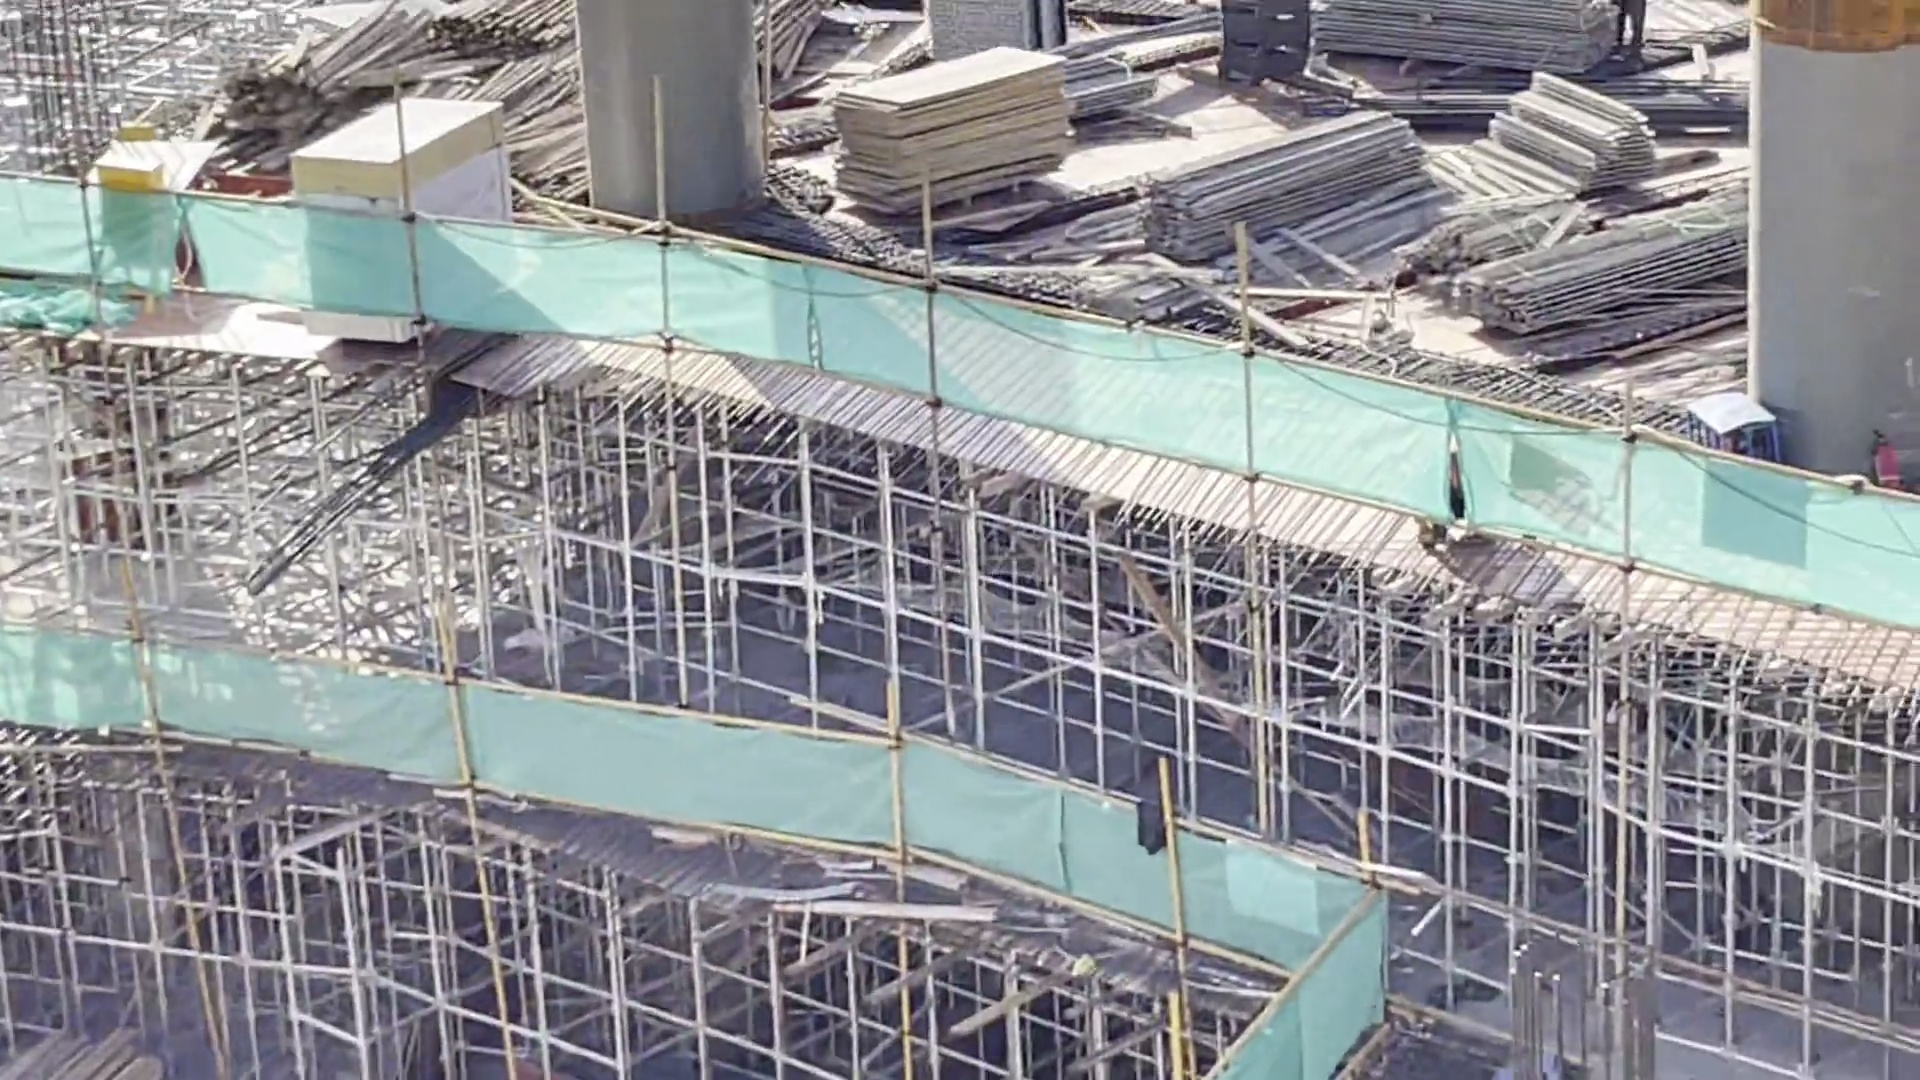board: (812, 51, 1097, 208)
ebox: (282, 84, 517, 343), (80, 116, 181, 258)
wood: (1444, 154, 1756, 353), (1151, 94, 1418, 278), (1480, 57, 1660, 204)
